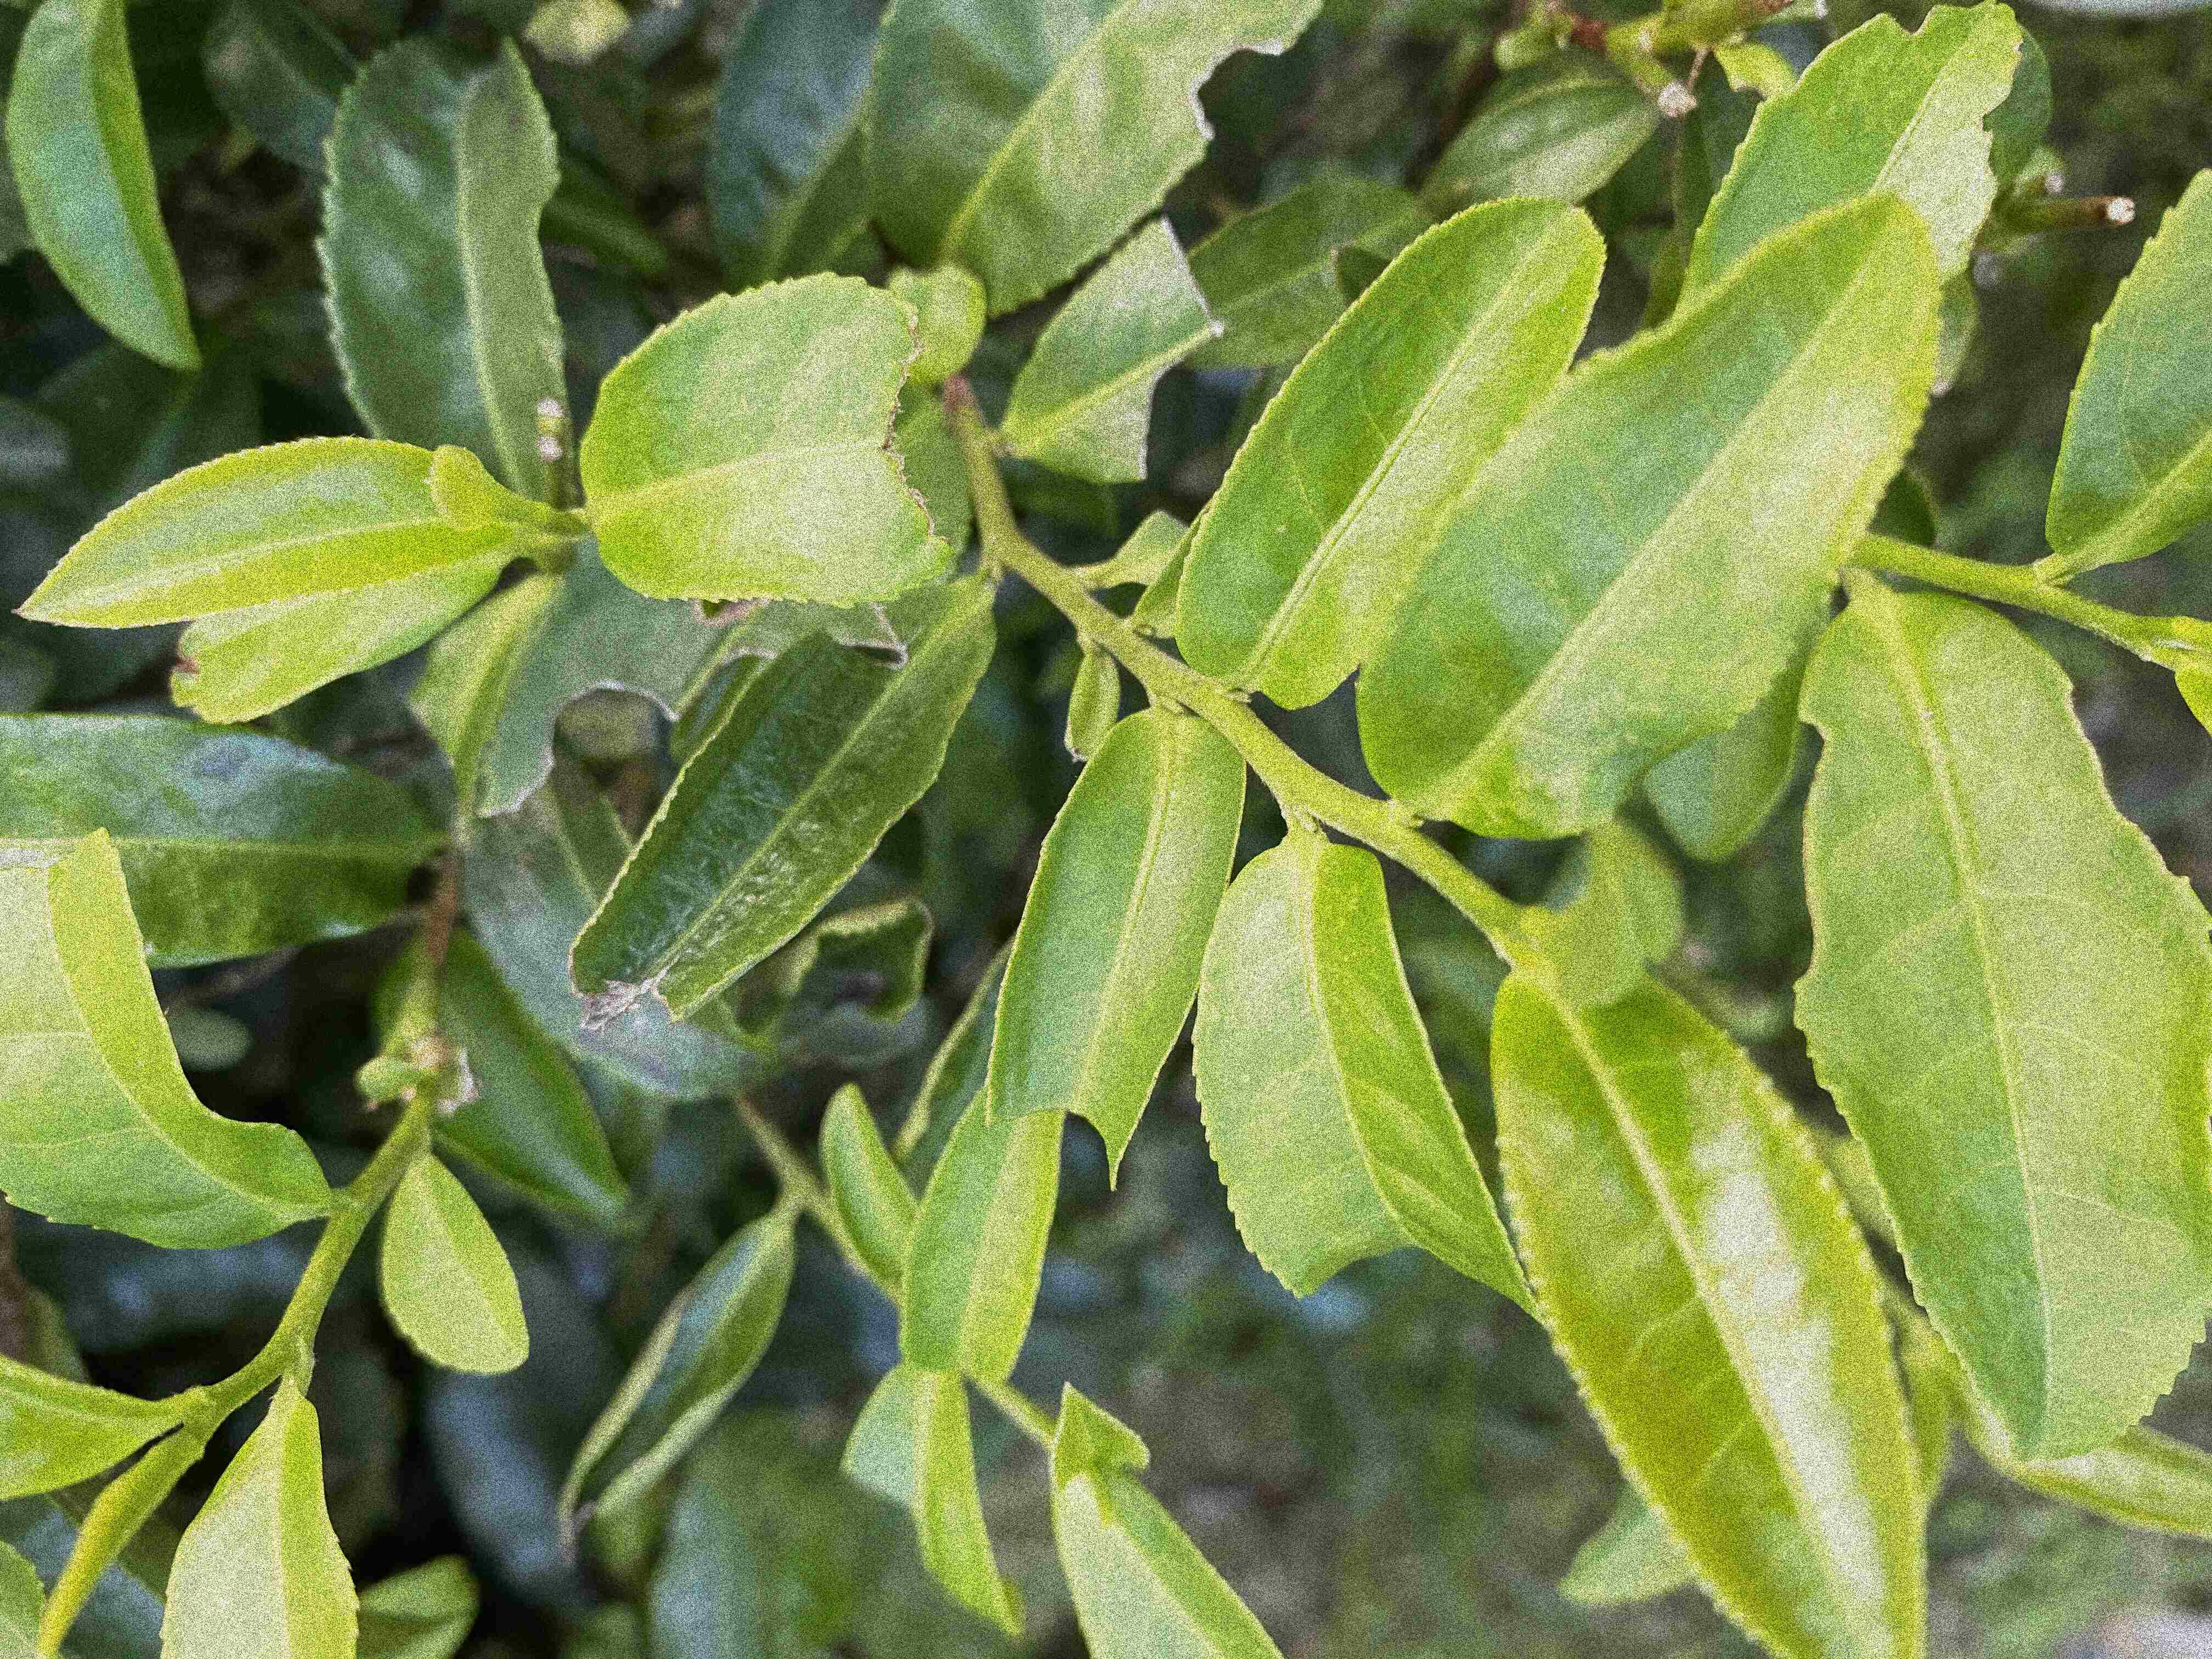chihuo_high: (1792, 591, 2210, 1467), (568, 580, 1003, 1035), (1190, 819, 1545, 1333), (981, 706, 1251, 1195), (578, 268, 958, 613), (1672, 7, 2027, 310), (998, 214, 1226, 484)
chihuo_low: (855, 7, 1331, 319)
healthy: (1353, 192, 1940, 845), (1487, 967, 1930, 1654), (1176, 193, 1609, 711)
tanju_low: (172, 549, 498, 728)
